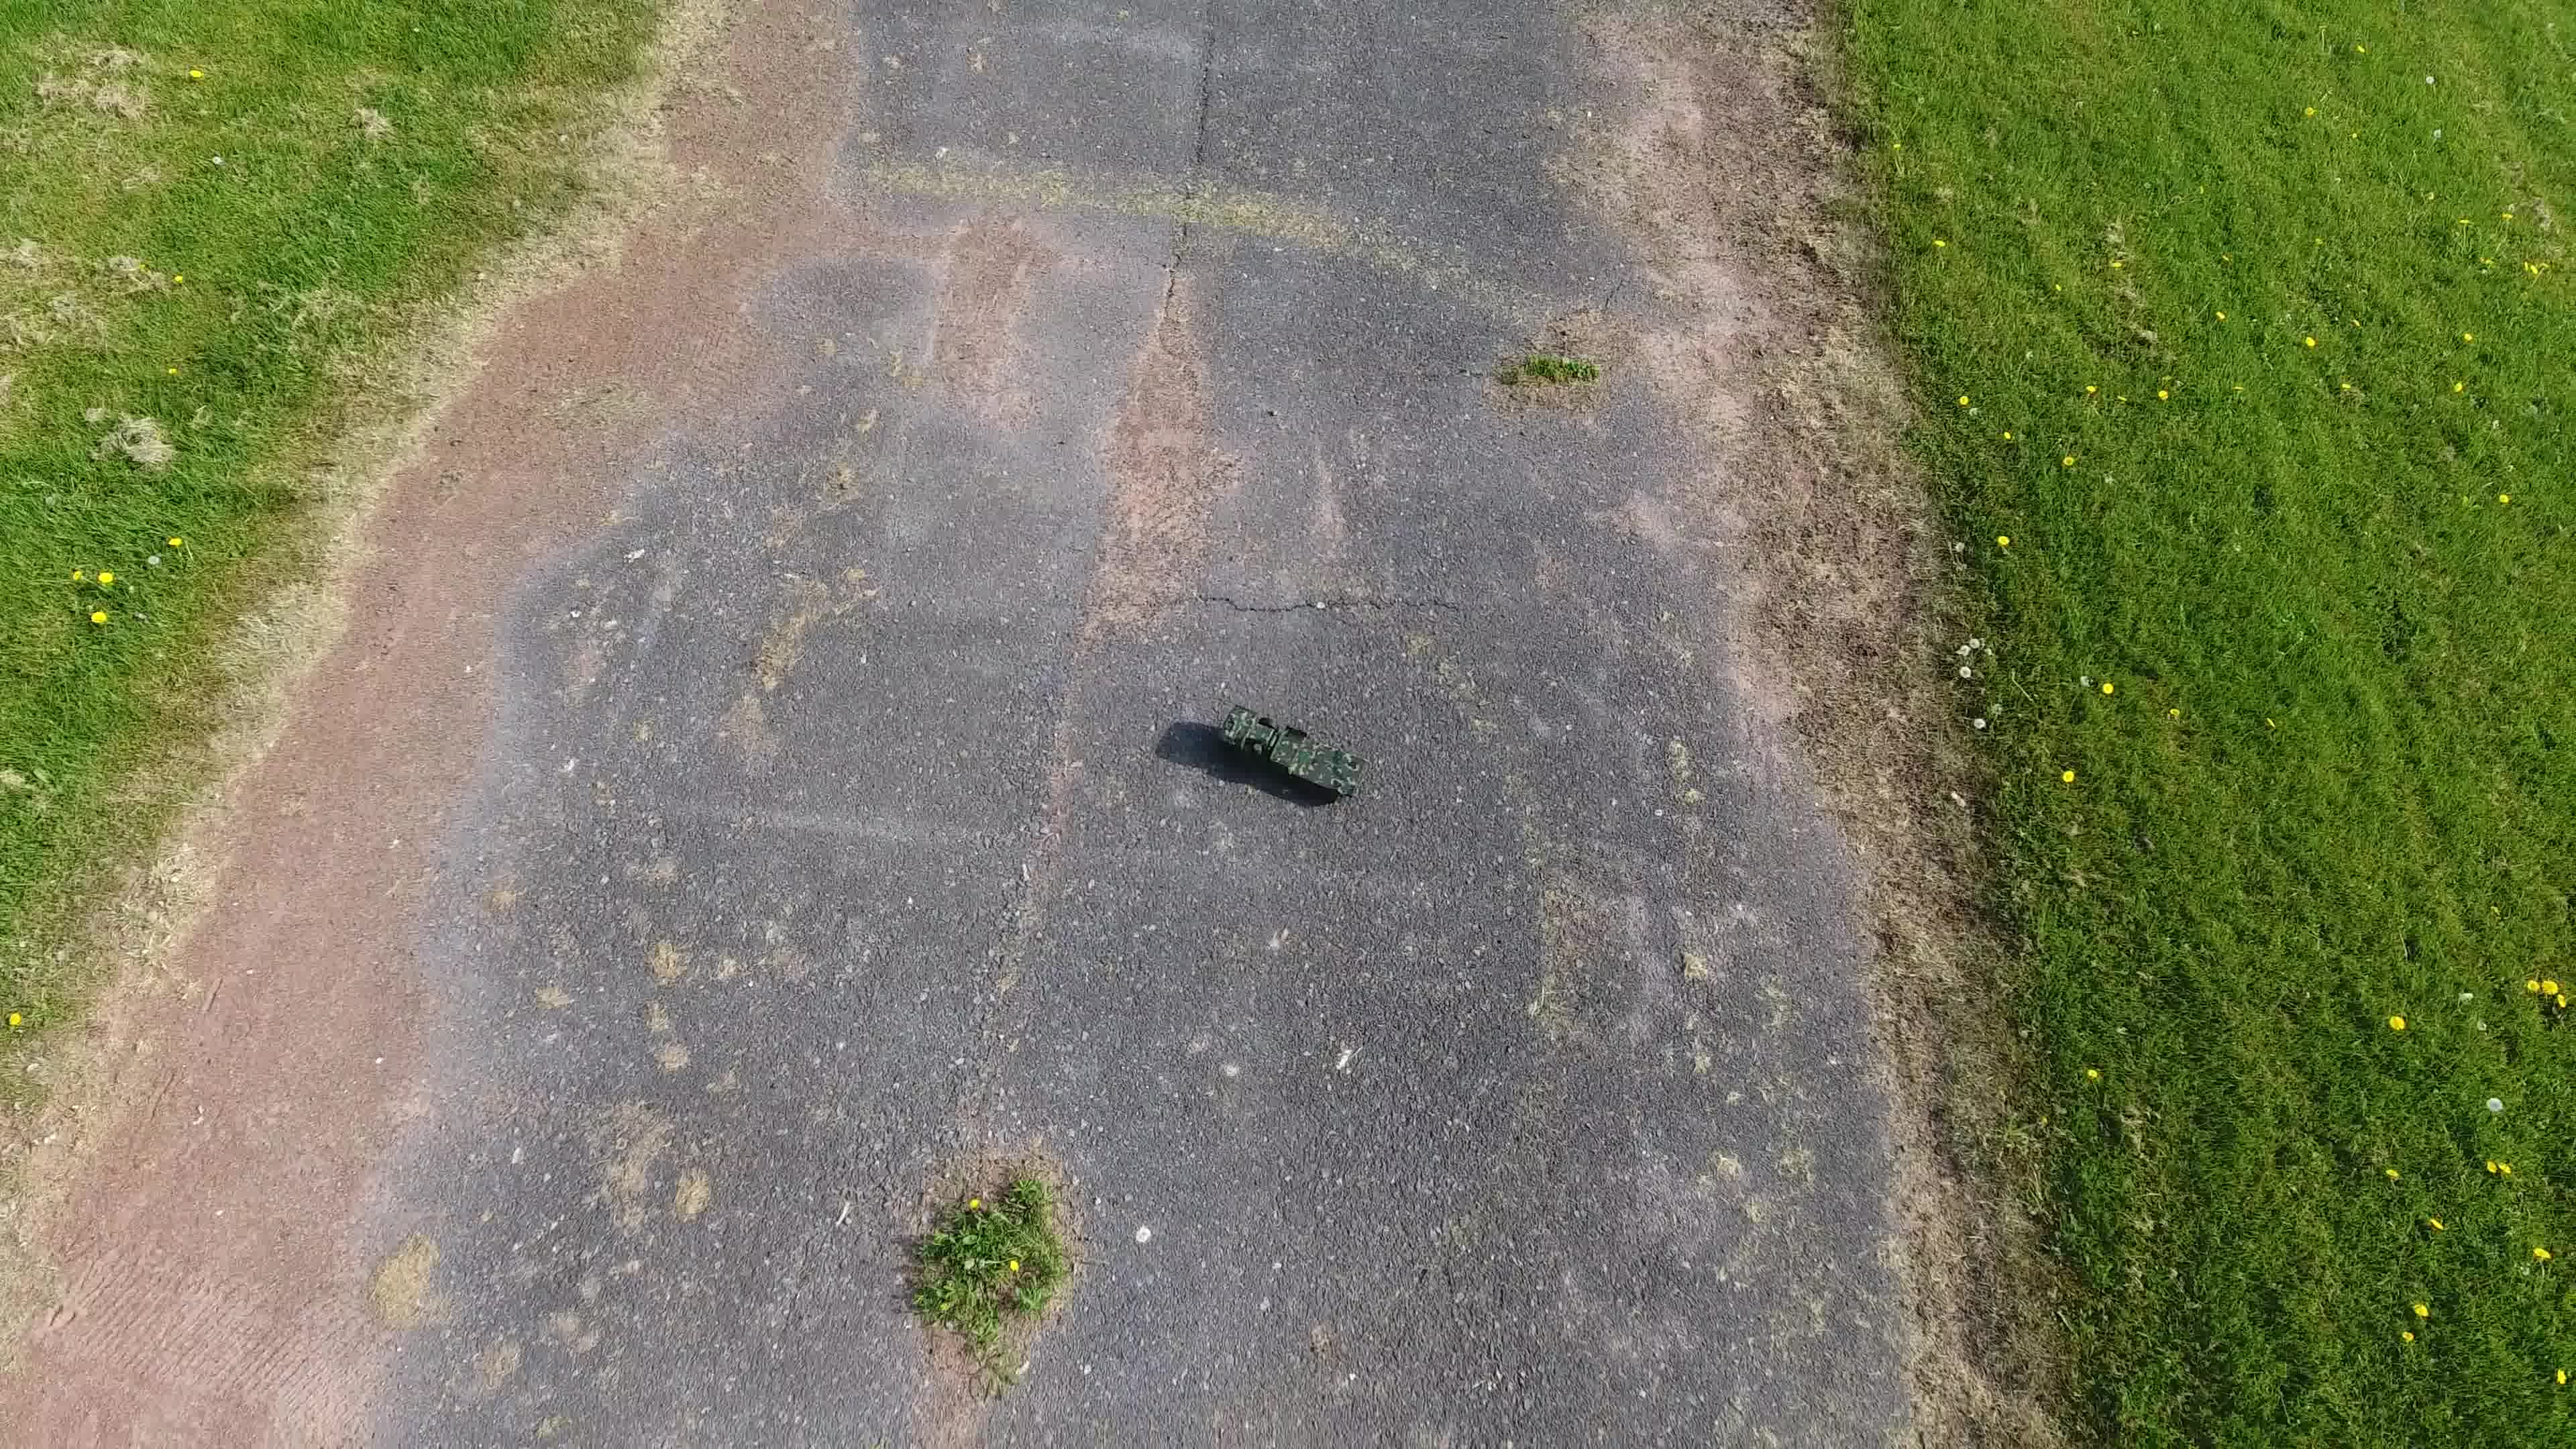transporter9_camo: (1214, 702, 1375, 801)
